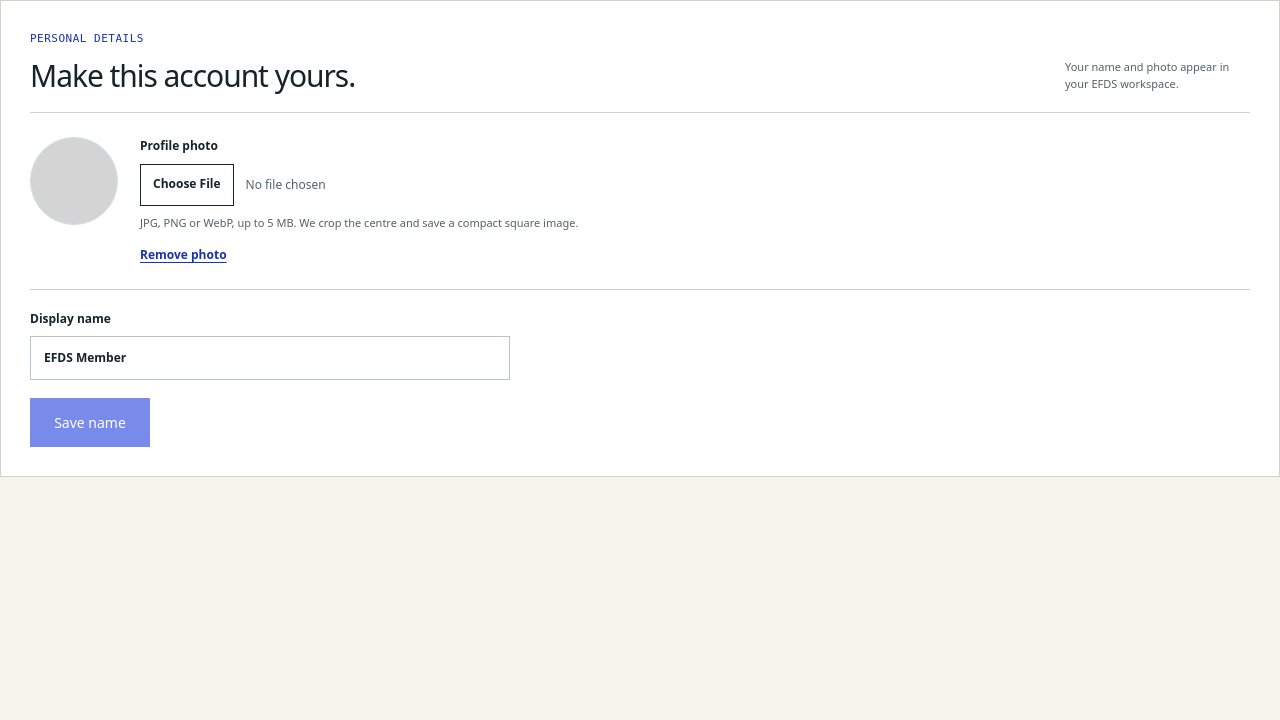
Test: profile editing › rejects an expired session before changing the profile
Replace the text in the field labelled "Display name" with "New Name" at (270, 358), box [30,336,510,380]
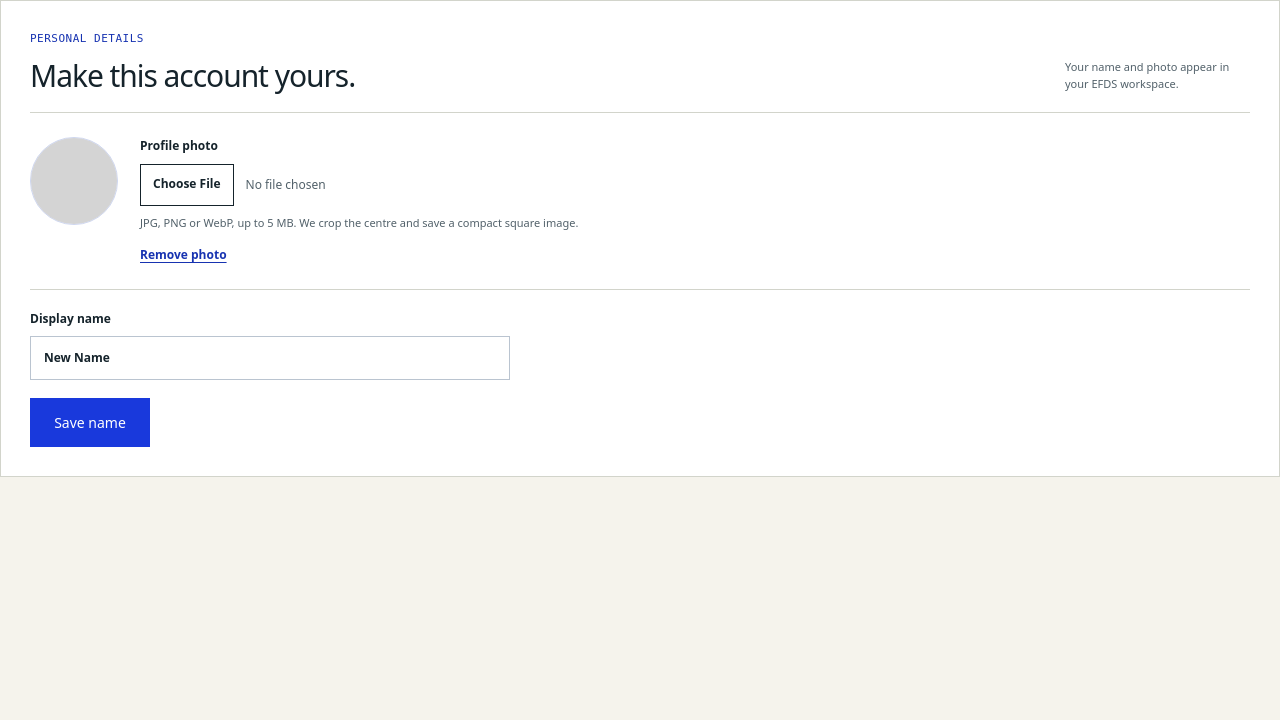
Click the button "Save name" at (90, 423), box [30,398,150,448]
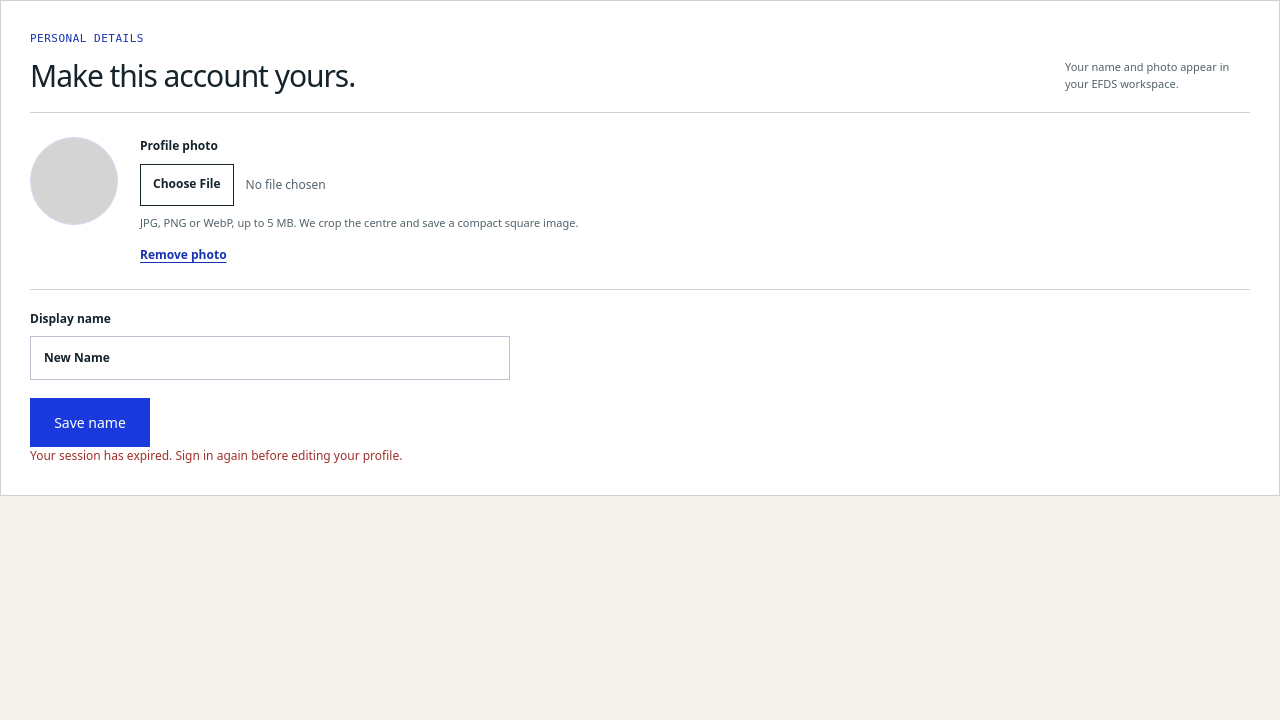
Expected: the message shows "session has expired", [30,448,402,464]
